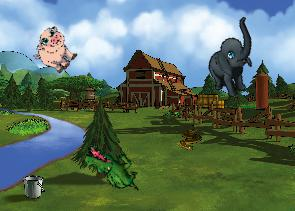crocodile: (79, 144, 145, 192)
elephant: (194, 16, 272, 102)
pig: (27, 22, 83, 78)
